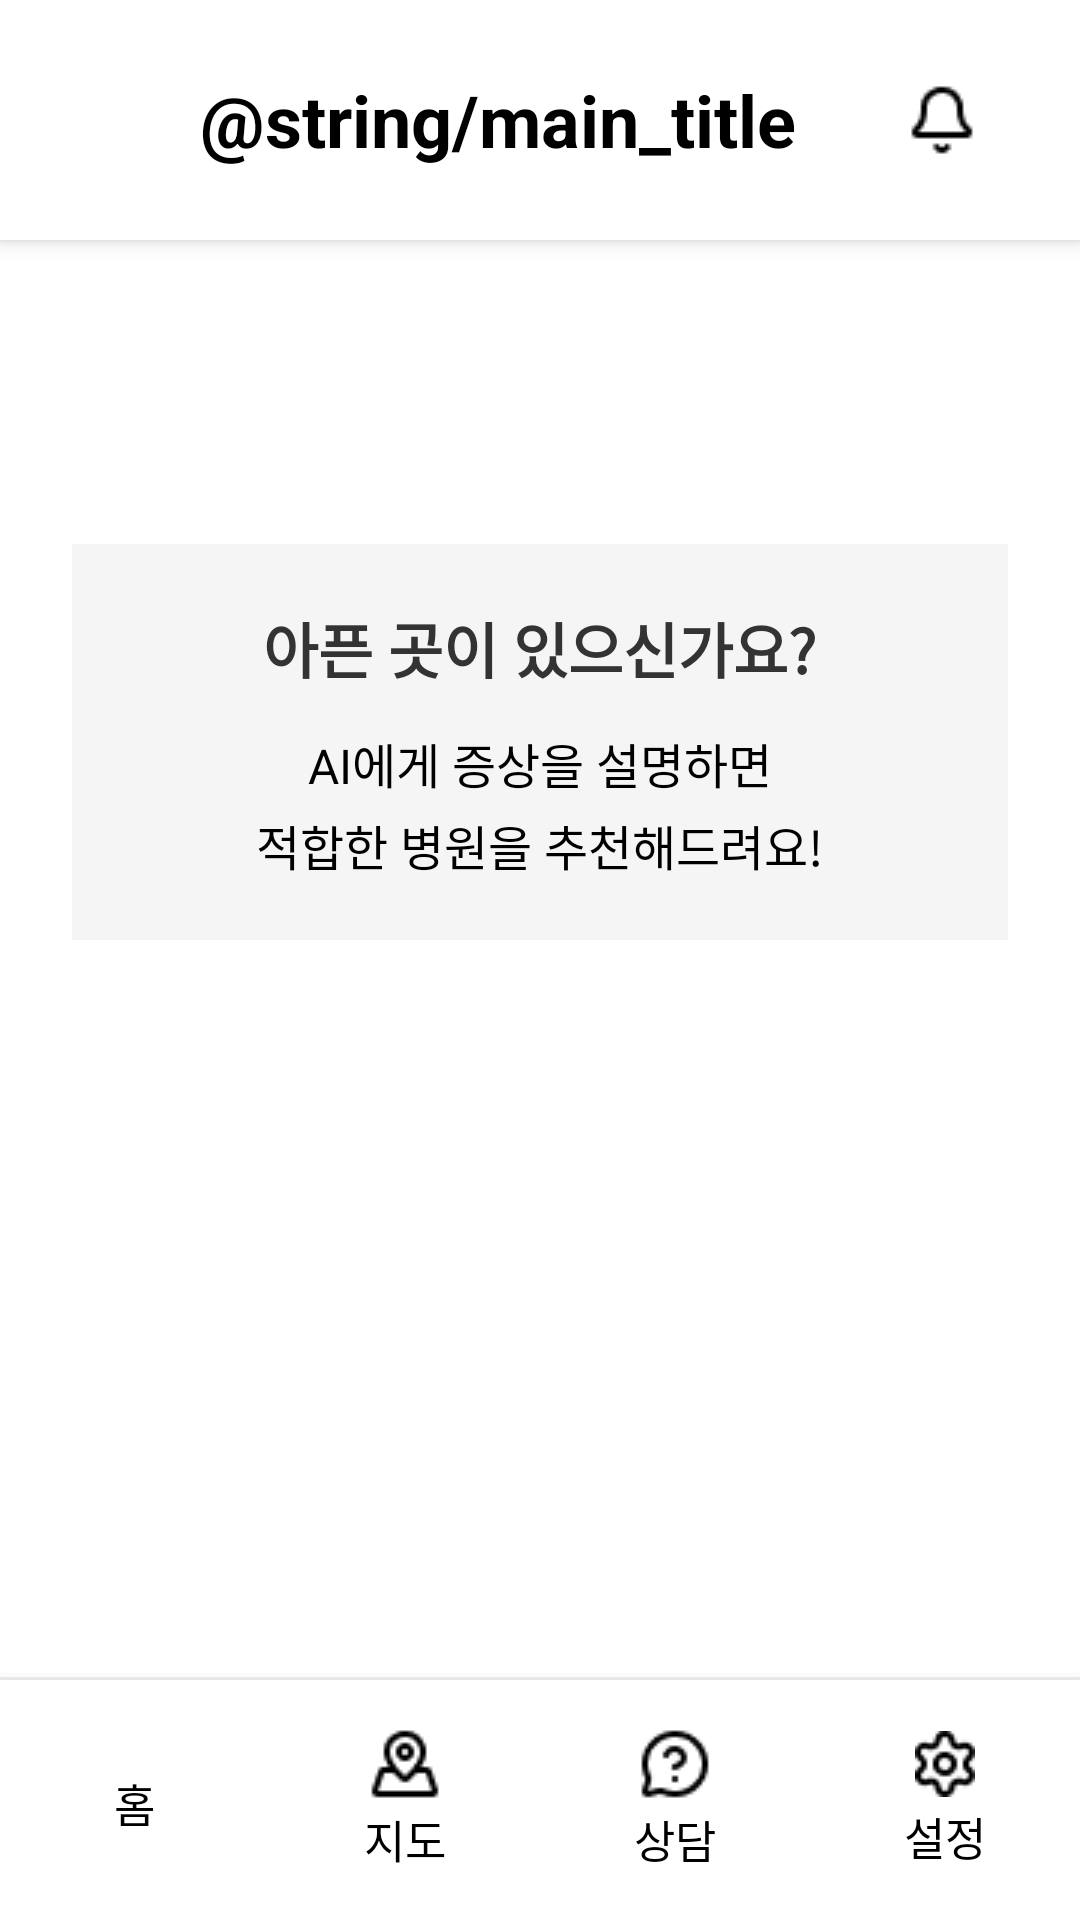

Icon click points for this 1080x1920 phone screenshot, format [x,y]:
bell: [942,120]
chatbot: [675,1764]
